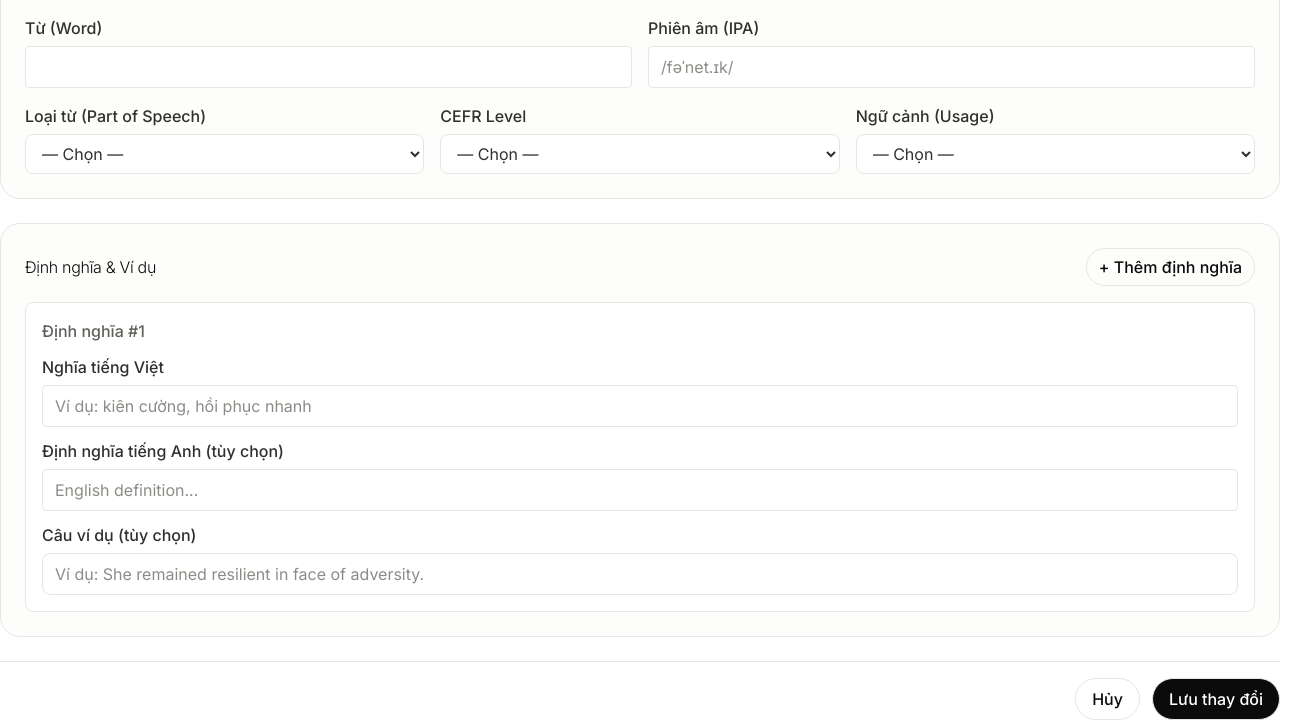
Test: WordForm component › shows error when word is empty on submit
(page scrolled)
Step 1. Click the button "Lưu thay đổi" → coordinates (1216, 699), box [1152,678,1280,719]
(page scrolled)
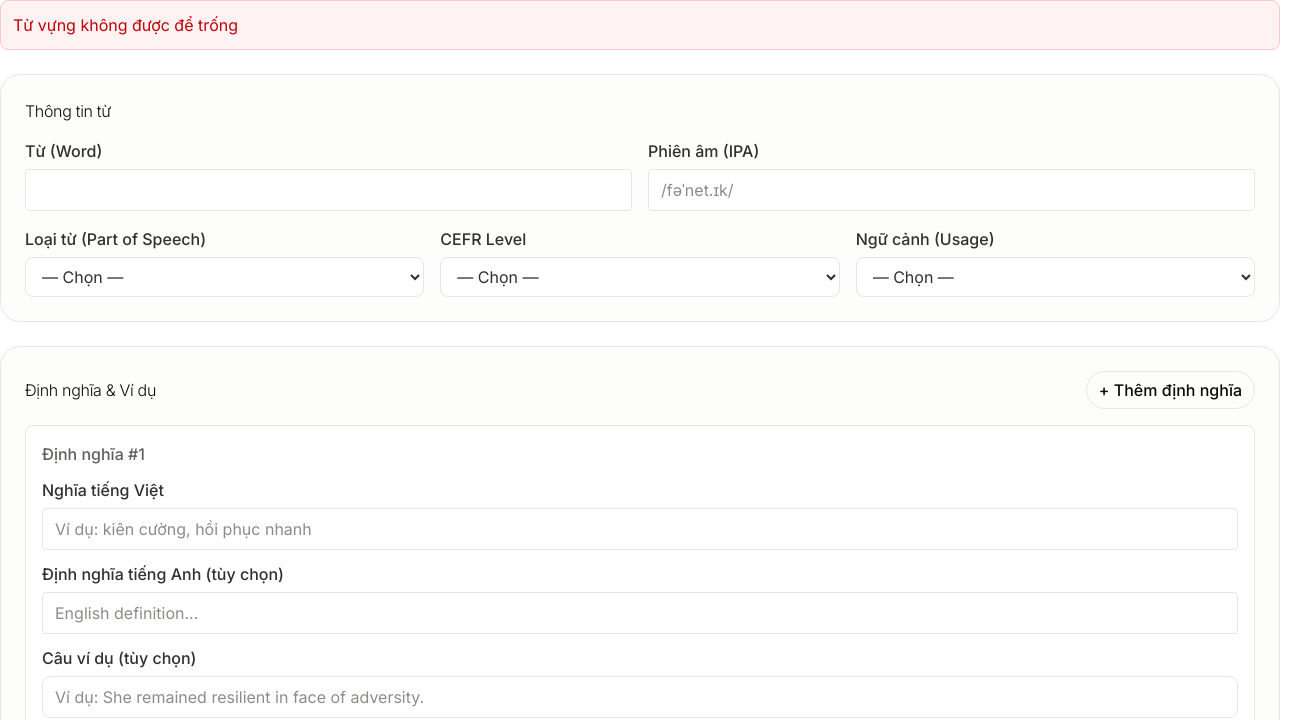
Now the text "Từ vựng không được để trống" is shown, box [0,0,1280,50]
